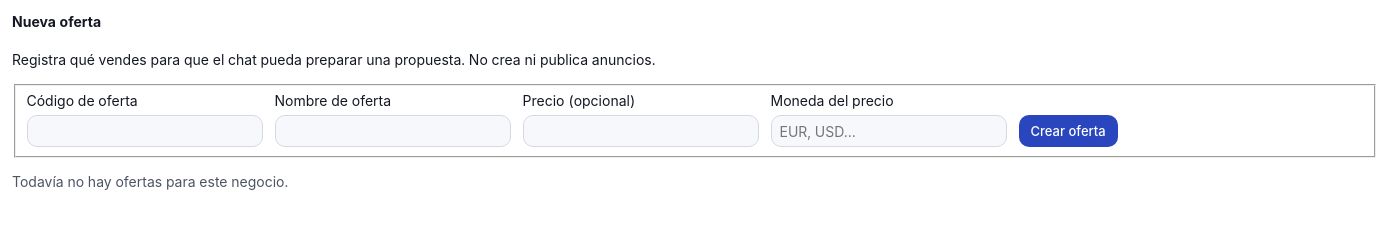
Test: explicit catalog onboarding › shows a conflict without retrying or declaring success
This screenshot has width=1378, height=240.
In the field labelled "Código de oferta": (144, 131) [26, 115, 262, 147], type "acme"
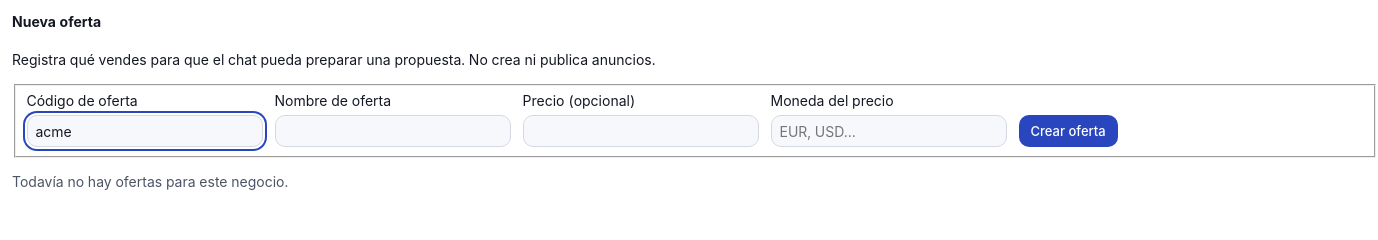
In the field labelled "Nombre de oferta": (392, 131) [274, 115, 510, 147], type "Plan Acme"
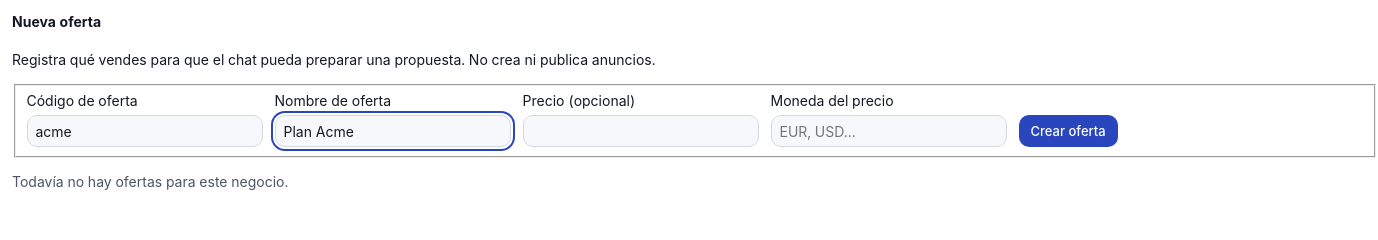
Click the button "Crear oferta": (1068, 131) [1018, 115, 1118, 147]
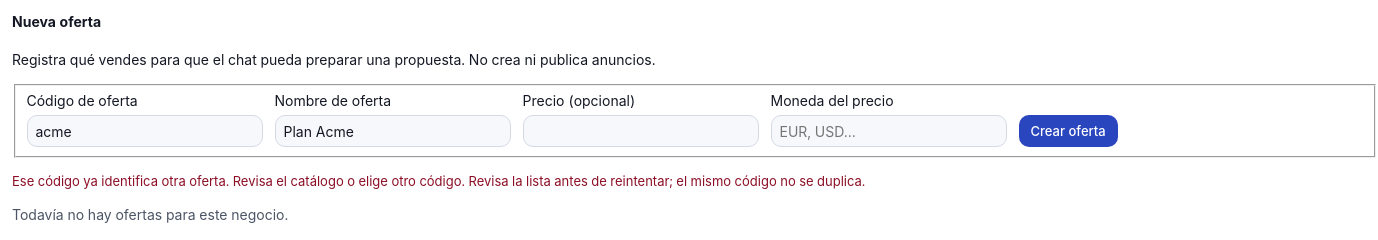
Expected: the message shows "Ese código ya identifica otra oferta.", [12, 173, 465, 189]
